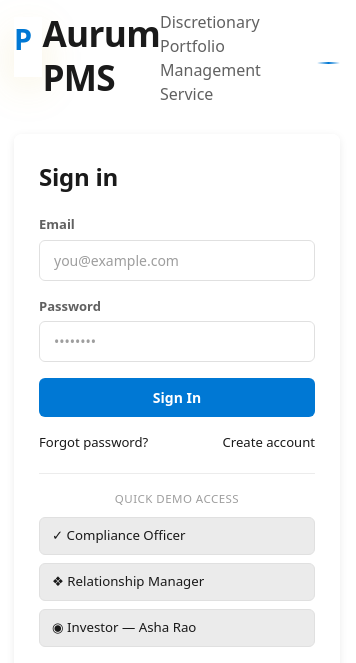
Scenario: LoginPage › switches to Create Account view
Step 1. Click the button "Create account" → (269, 443), box [222,433,315,453]
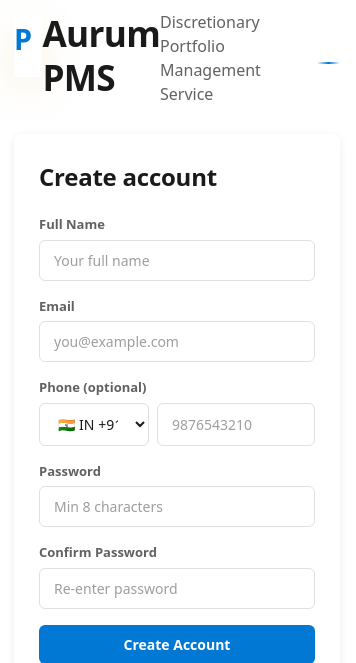
Result: the heading "Create account" is shown at [39,160,217,193]
Result: the field with placeholder "Your full name" is shown at [39,240,315,280]
